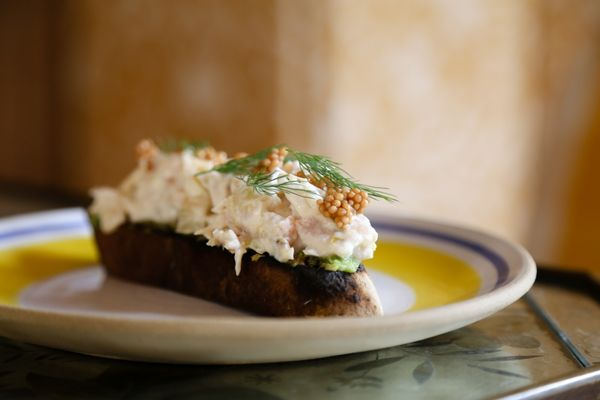soup: (85, 137, 393, 317)
